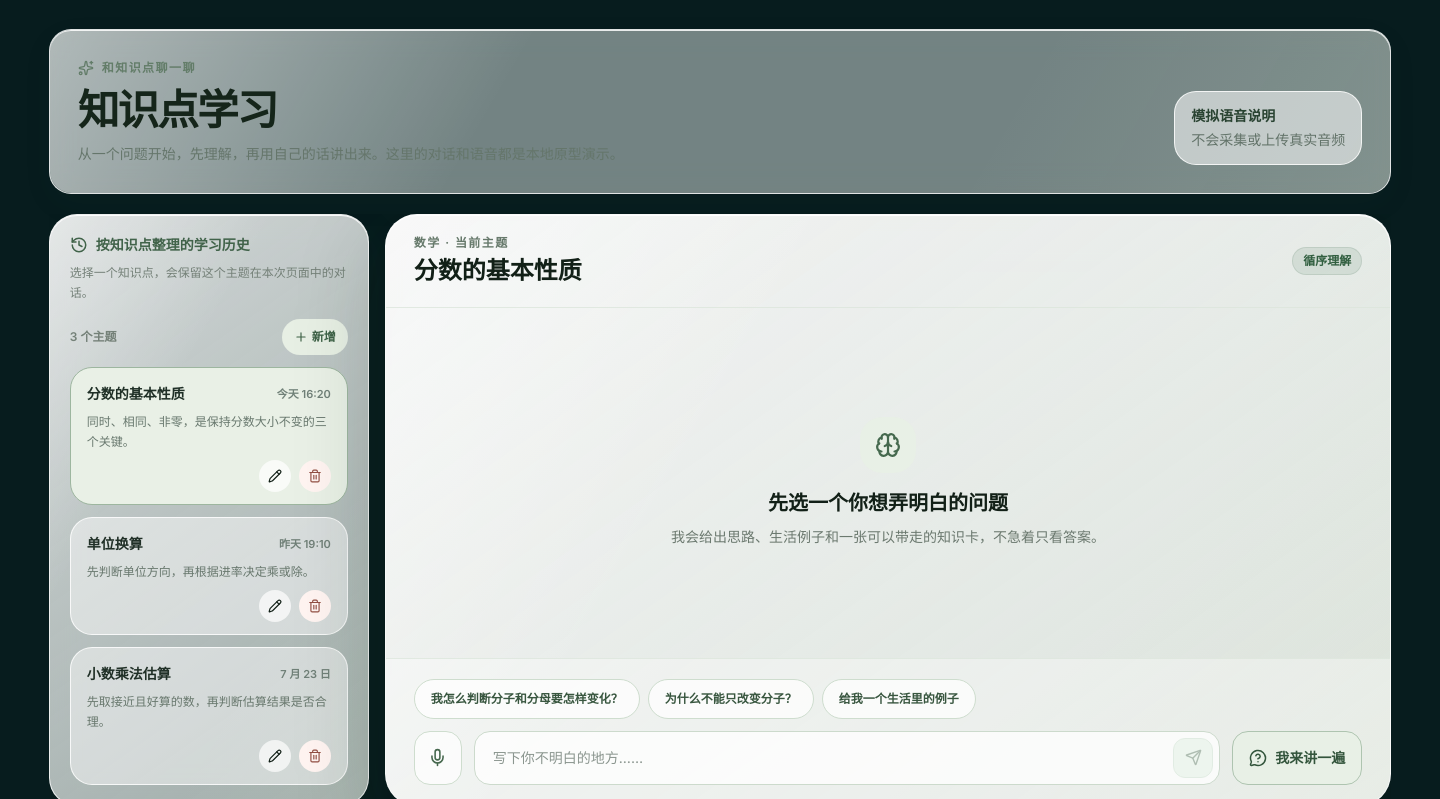
Test: LearningPage › keeps a failed student question and retries without fixed answers
Step 1. Type "我该怎么换算？" into the field named "输入学习问题" → (823, 758), box top-left (481, 738), bottom-right (1165, 778)
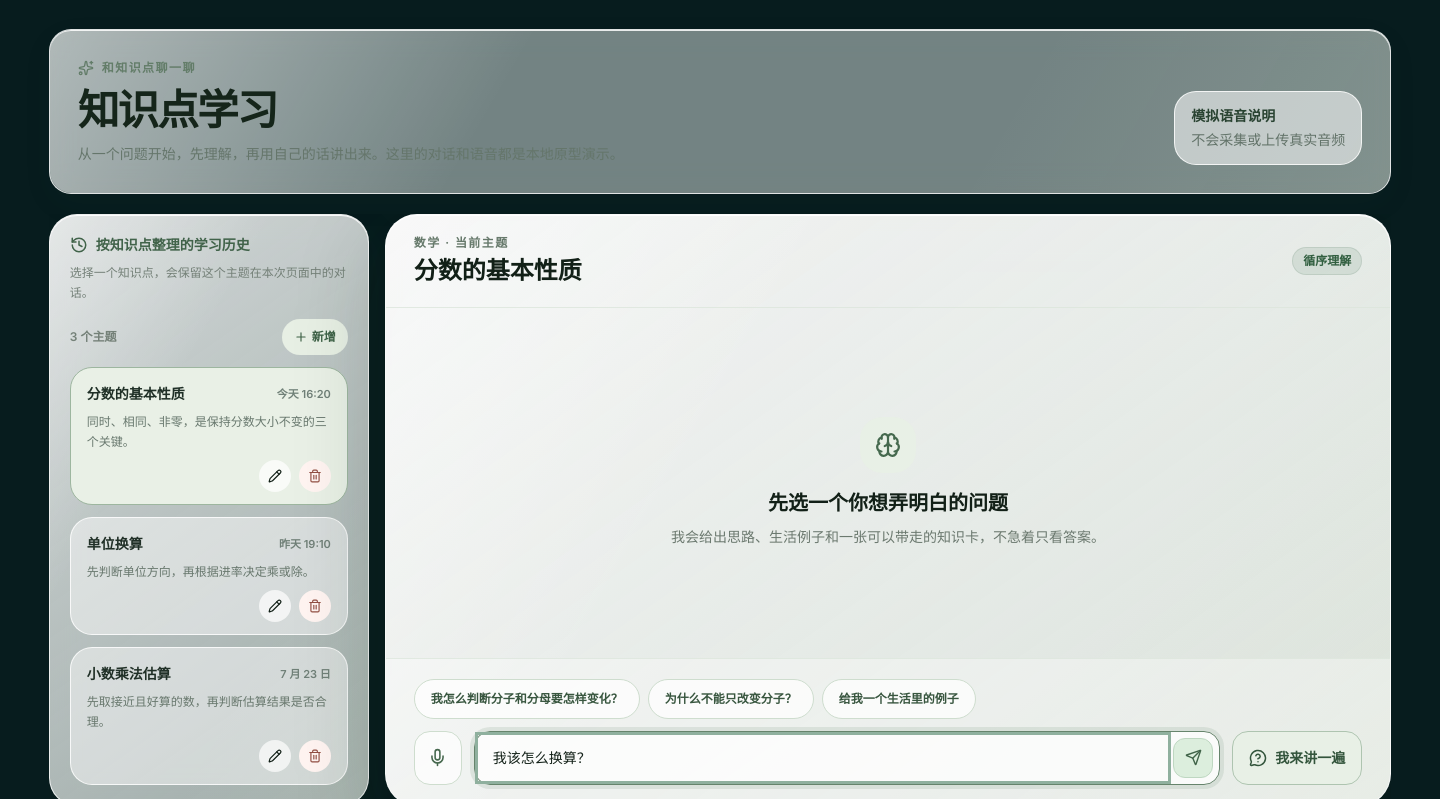
Step 2. Click the button named "发送问题" → click(1193, 758), box top-left (1173, 738), bottom-right (1213, 778)
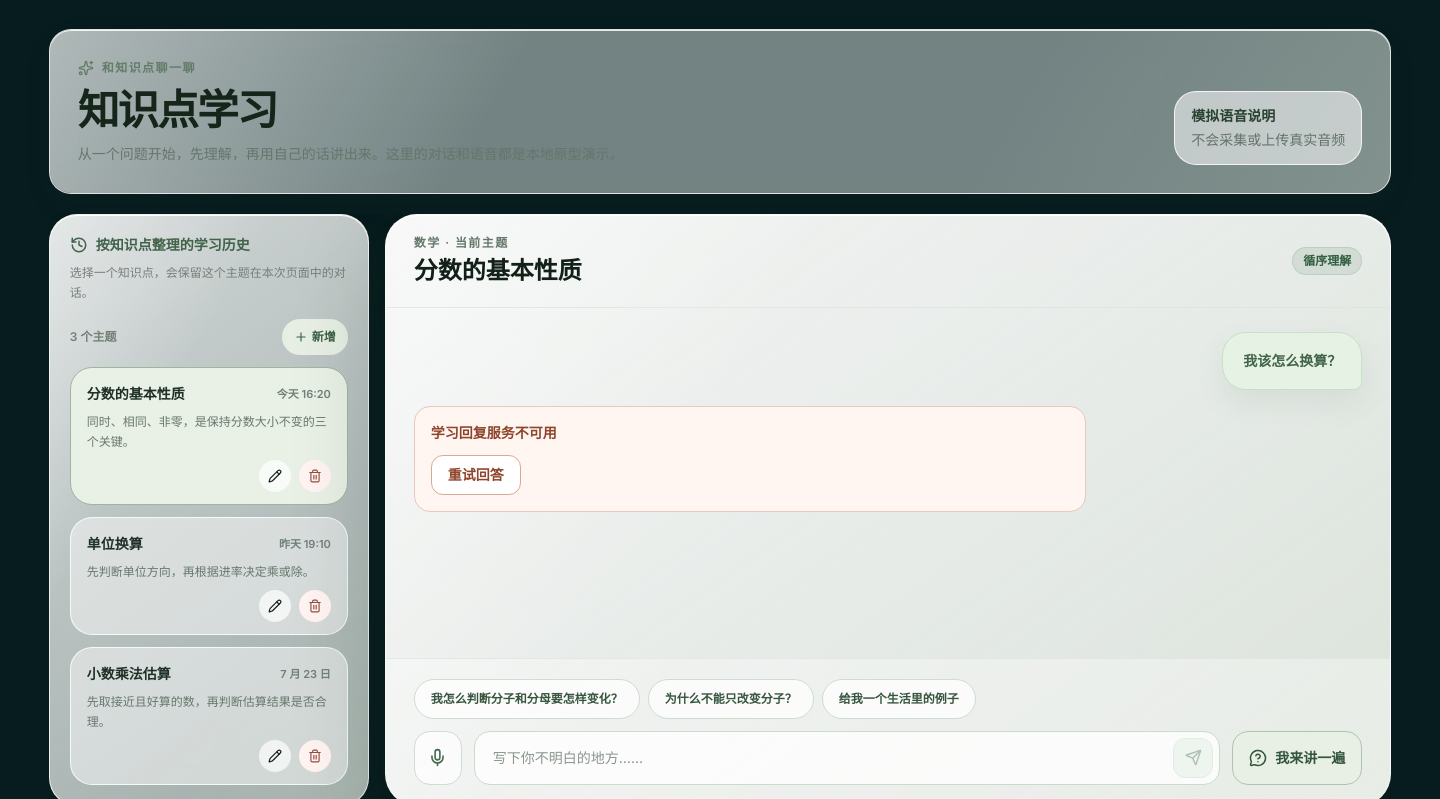
Result: the text "我该怎么换算？" is shown at top-left (1222, 332), bottom-right (1362, 390)
Result: the message reads "学习回复服务不可用" at top-left (431, 424), bottom-right (557, 441)
Result: the button "重试回答" is shown
Step 3. Click the button "重试回答" → click(476, 475), box top-left (431, 455), bottom-right (521, 495)
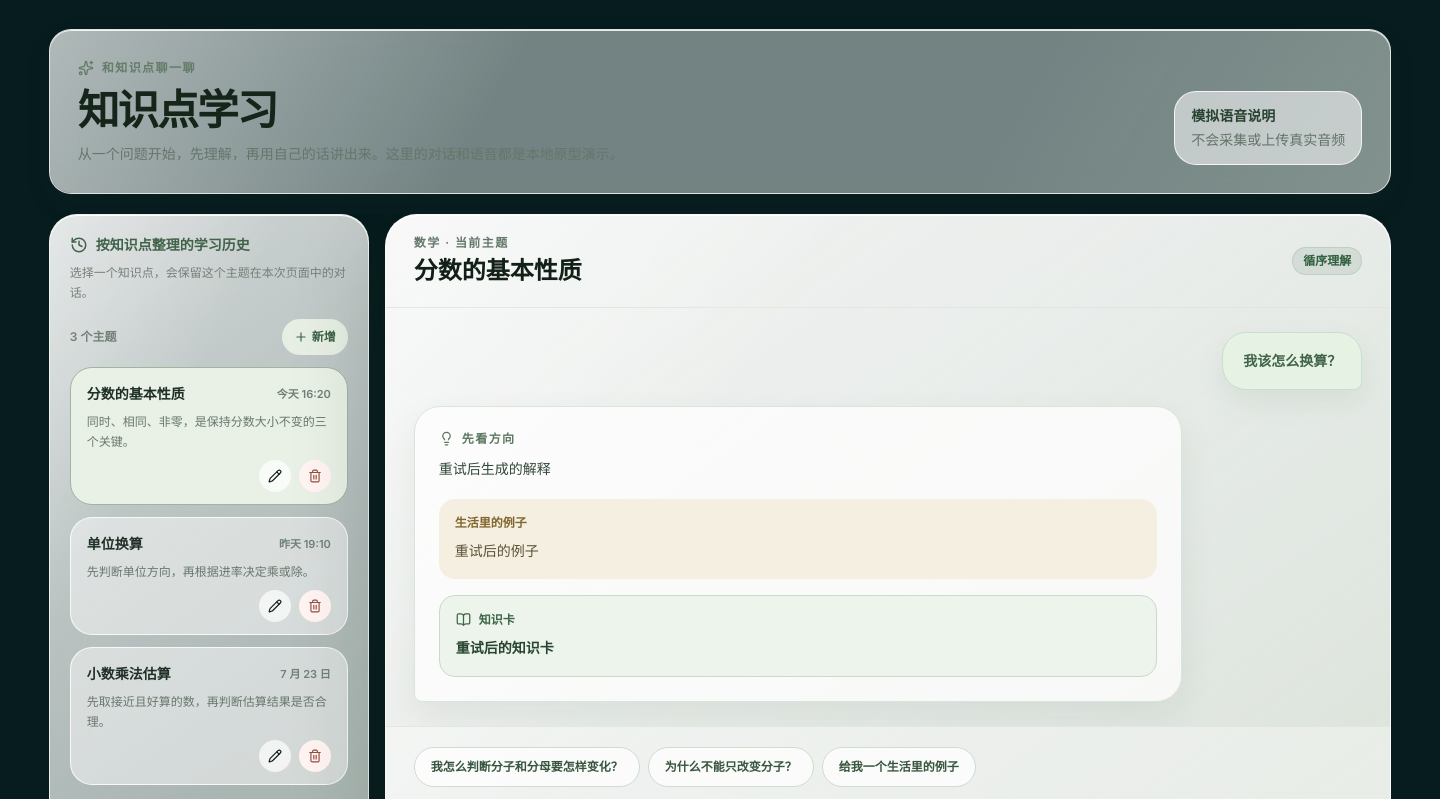
Result: the text "重试后生成的解释" is shown at top-left (439, 460), bottom-right (551, 477)
